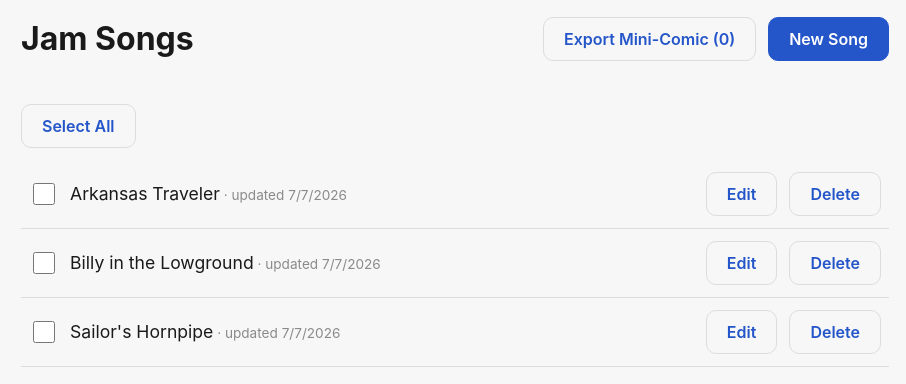
Scenario: SongLibraryPage › Deselect All clears every checkbox
Expected: the text "Arkansas Traveler" is shown, [70,183,220,204]
Click the button "Select All" at point(78, 126), box [21,104,136,148]
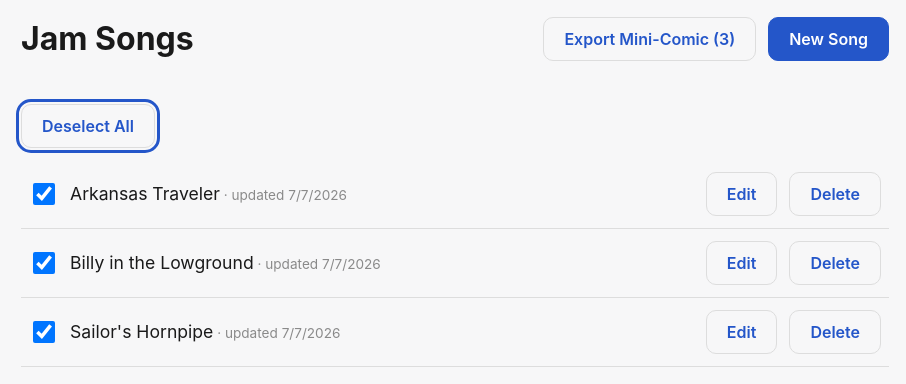
Click the button "Deselect All" at point(88, 126), box [21,104,155,148]
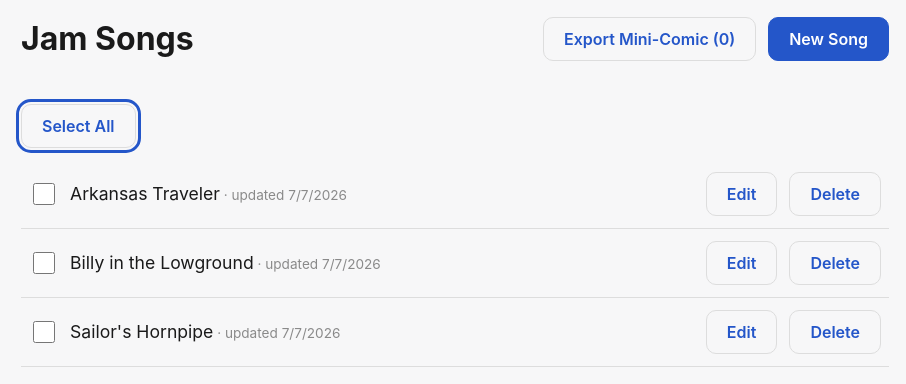
Expected: the checkbox named "Select Arkansas Traveler for export" is not checked, [33,183,55,205]
Expected: the checkbox named "Select Sailor's Hornpipe for export" is not checked, [33,321,55,343]
Expected: the button "Export Mini-Comic (0)" is disabled, [543,17,756,61]
